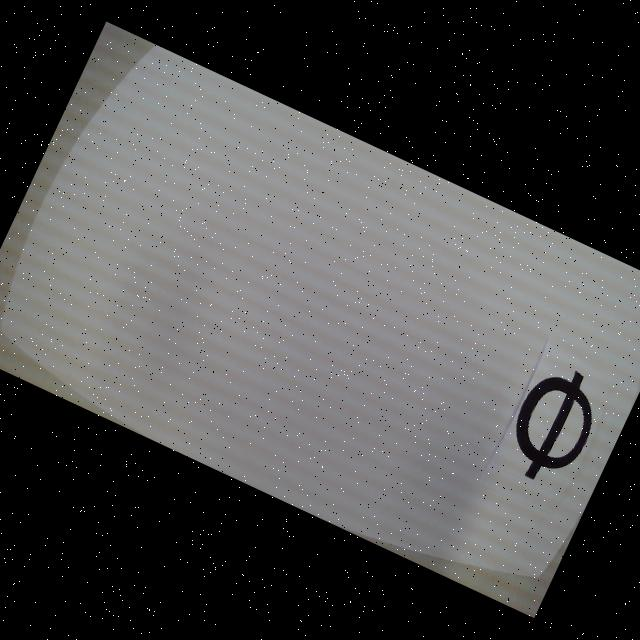PHI: (496, 356, 612, 494)
